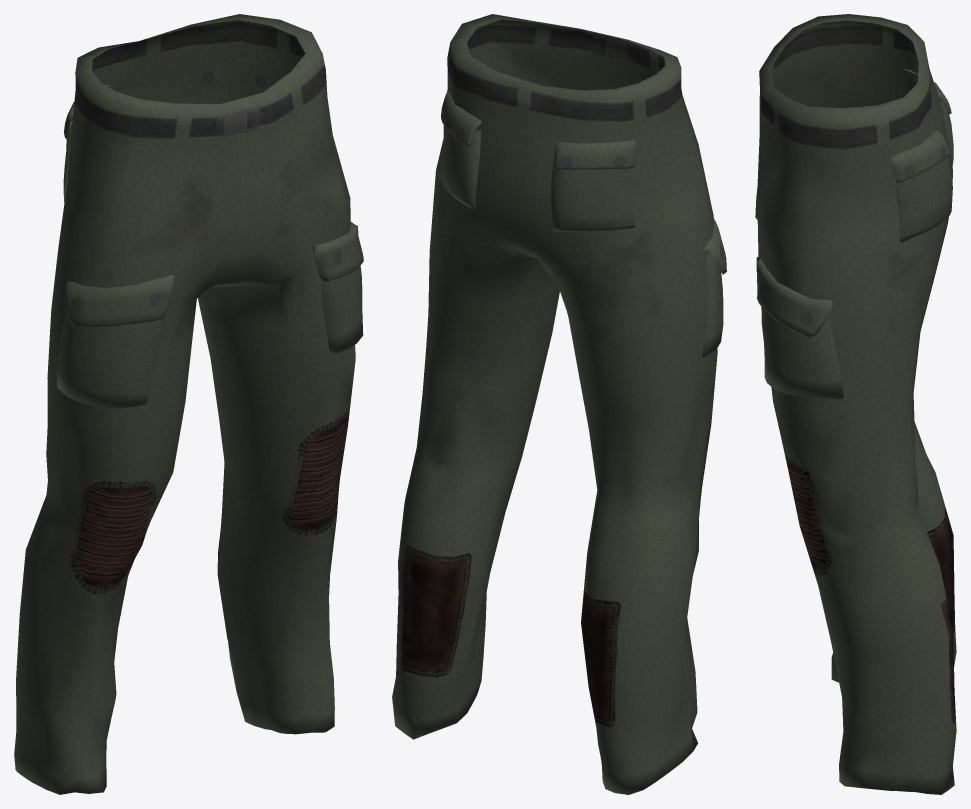
The model's file is clothing_pants.glb.
The picture shows the model from 3 angles, left to right: view 1: azimuth 30°, elevation 25°; view 2: azimuth 150°, elevation 25°; view 3: azimuth 270°, elevation 25°; orthographic projection. The views are drawn at different scales.
Parts seen in each view (by area): view 1: shtany; view 2: shtany; view 3: shtany.
Boxes of the visible parts, bbox=[...] form: shtany: bbox=[14, 14, 363, 794]; shtany: bbox=[392, 14, 726, 794]; shtany: bbox=[755, 14, 956, 794].
Size of the model in its own units: 46.57 by 109 by 29.13.
1 material, 1 textured.
